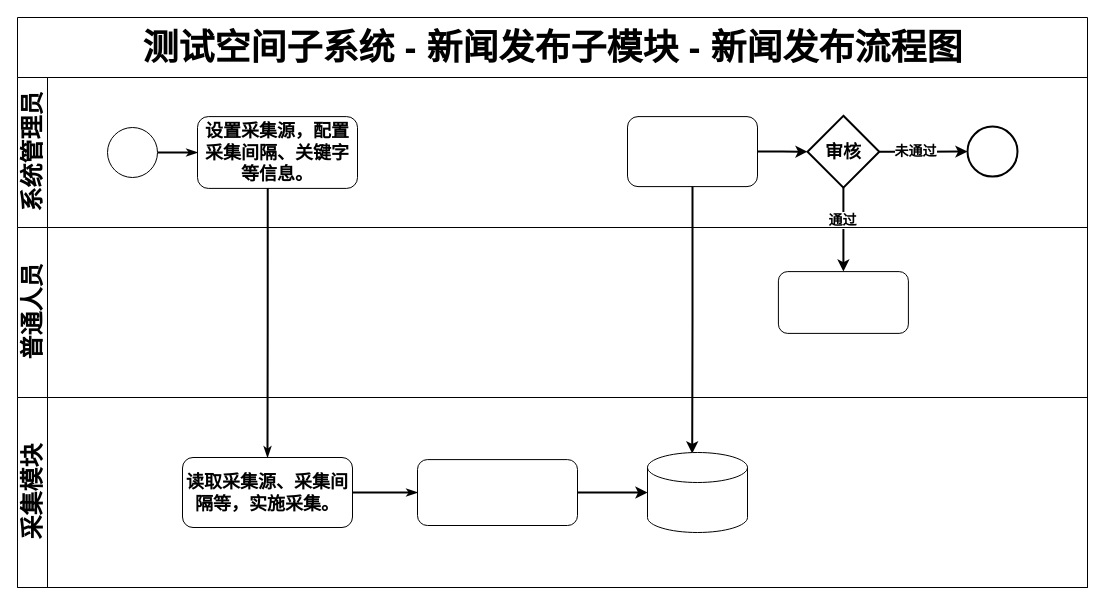
This 1105x605 diagram has some shape labels left out. Here are the shapes that lost their labels. From the top down, the centre of each, then its label:
At pixel 692 151: "新闻审核 重点新闻设置".
At pixel 842 302: "新闻浏览".
At pixel 497 492: "采集后自动提取评测事件，按照事件聚类并入库".
At pixel 697 492: "新闻库".
